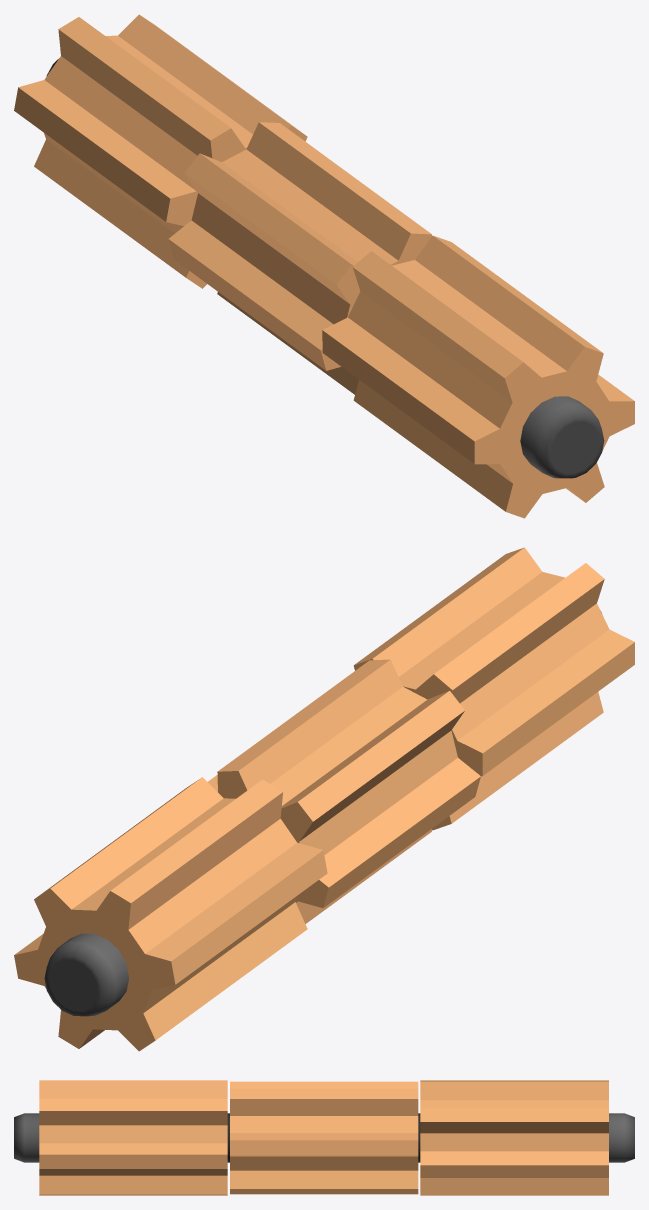
The model's file is obstacle_8_002.fbx.
3 renders of one model, top to bottom at view 1: azimuth 30°, elevation 25°; view 2: azimuth 150°, elevation 25°; view 3: azimuth 270°, elevation 25°, orthographic. The views are drawn at different scales.
Visible parts, largest first — view 1: obstacle_8_002; view 2: obstacle_8_002; view 3: obstacle_8_002.
Boxes of the visible parts, <box> form: obstacle_8_002: <box>14,14,634,518</box>; obstacle_8_002: <box>14,547,634,1051</box>; obstacle_8_002: <box>14,1080,634,1195</box>.
Bounding box in the file's own units: 116 × 622 × 115.
